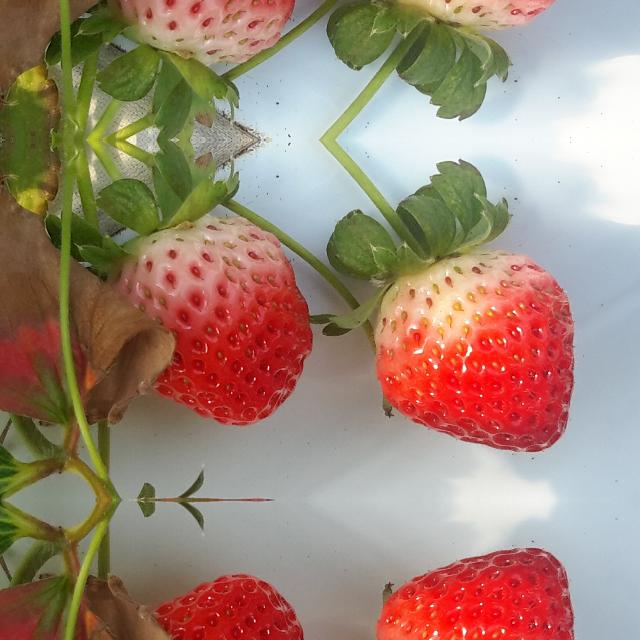Health_100: (100, 225, 312, 430), (374, 250, 574, 450), (374, 549, 574, 640), (100, 570, 312, 640), (100, 0, 312, 55)
